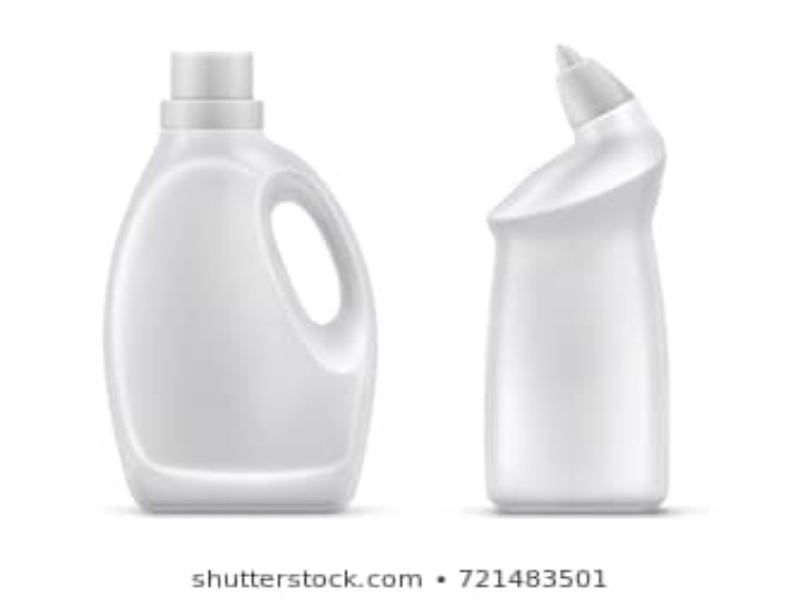detergent-bottle: (102, 47, 381, 518), (480, 40, 680, 519)
